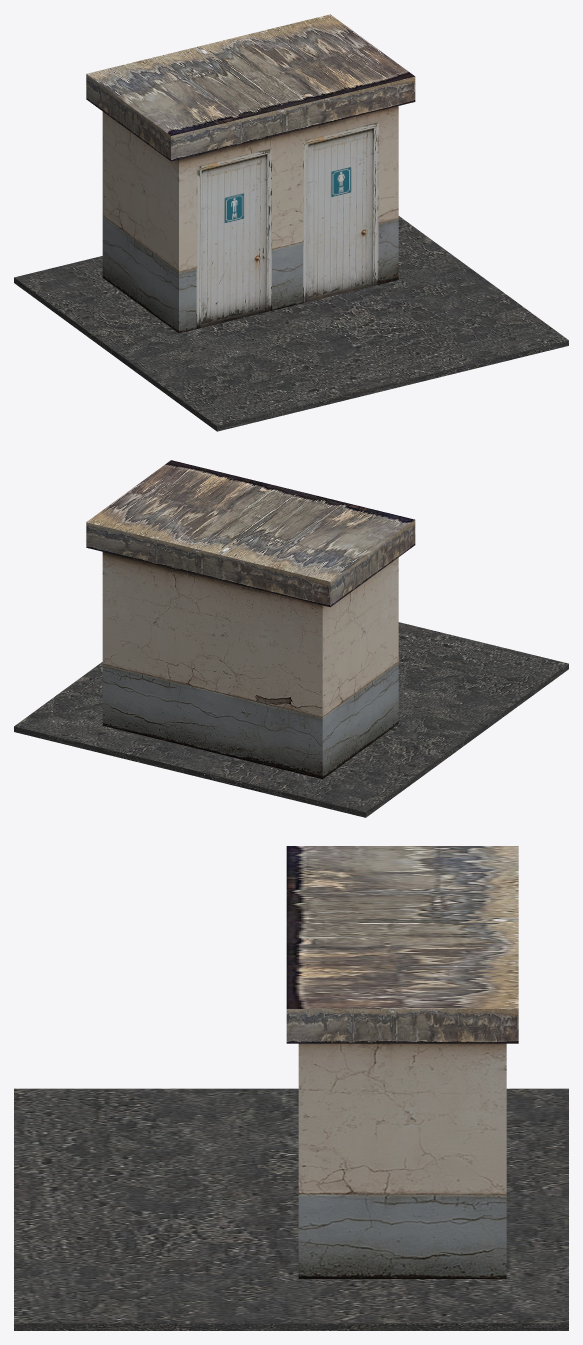
The model's file is r402_tualet2.FBX.
The picture shows the model from 3 angles, top to bottom: view 1: azimuth 30°, elevation 25°; view 2: azimuth 150°, elevation 25°; view 3: azimuth 270°, elevation 25°; orthographic projection. The views are drawn at different scales.
Visible parts, largest first — view 1: r402_tualet2; view 2: r402_tualet2; view 3: r402_tualet2.
Part boxes in pixels (box(x1,y1,x2,y2)): r402_tualet2: box(14, 14, 568, 431); r402_tualet2: box(14, 460, 568, 817); r402_tualet2: box(14, 846, 568, 1330).
Bounding box in the file's own units: 4 × 4 × 2.28.
